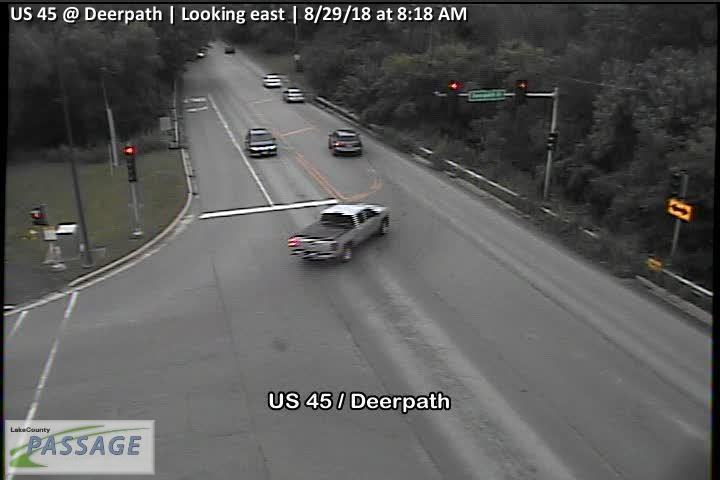SUV: (244, 128, 280, 159), (327, 128, 364, 157), (283, 86, 303, 104), (261, 74, 282, 88), (224, 44, 235, 54)
Truck: (286, 202, 392, 263)
